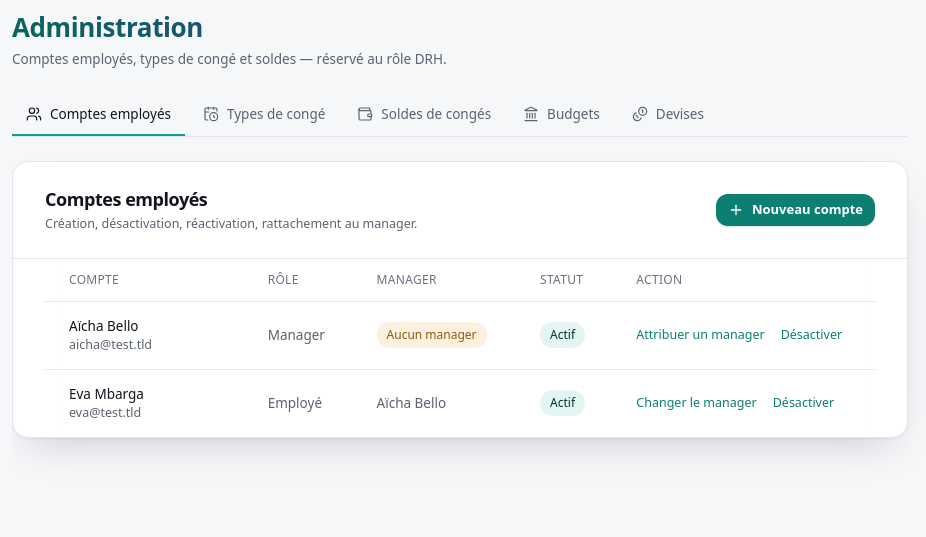
Test: AdminPage — onglet Comptes : manager › annonce les demandes en cours transmises au nouveau manager
The width and height of the screenshot is (926, 537).
Expected: the text "Eva Mbarga" is shown, [69, 384, 144, 402]
Click the button with aria-label "changer le manager de eva" at point(696, 403), box [636, 394, 757, 412]
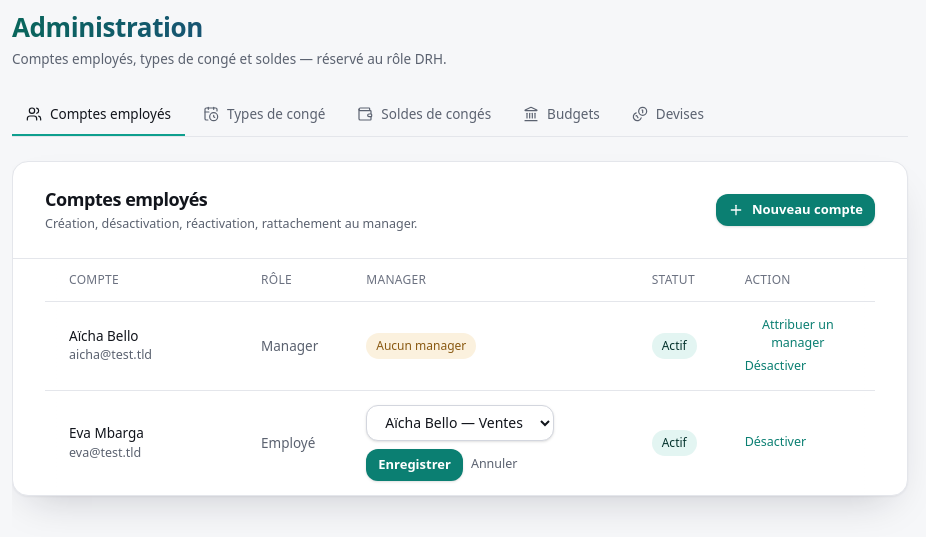
Select "Aucun manager" in the dropdown named "Manager de Eva Mbarga" at point(460, 423), box [366, 405, 554, 441]
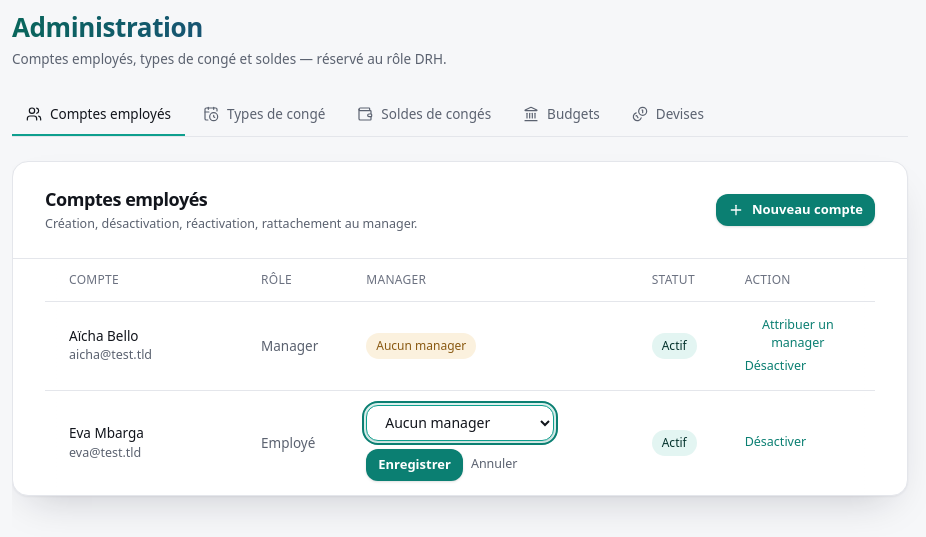
Click the button "Enregistrer" at point(415, 465), box [366, 449, 463, 481]
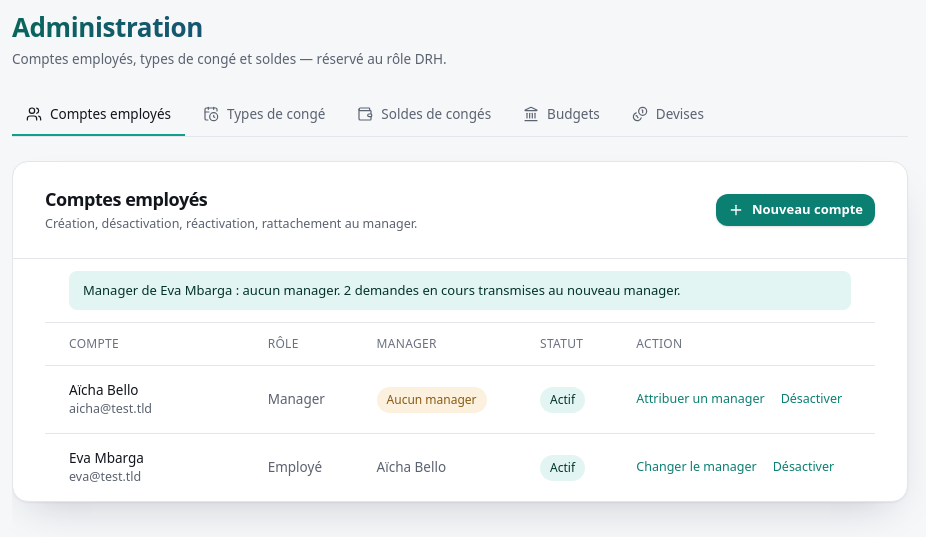
Result: the text "2 demandes en cours transmises au nouveau manager" is shown at [83, 280, 680, 298]
